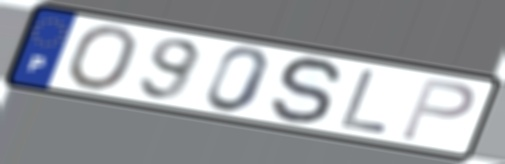0: (203, 45, 274, 115)
9: (136, 36, 206, 101)
L: (336, 67, 392, 136)
O: (62, 24, 140, 93)
P: (396, 75, 478, 144)
S: (267, 55, 347, 127)
